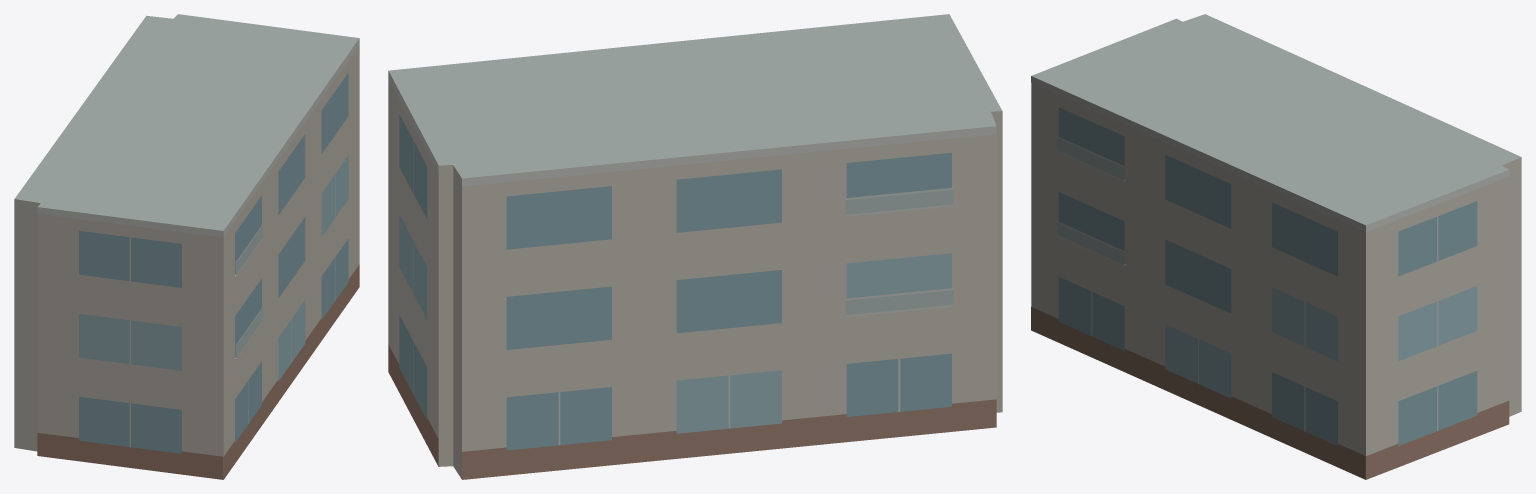
Rendered from survey-upis-32717473.glb.
3 views of the same model, side by side, from view 1: azimuth 30°, elevation 25°; view 2: azimuth 150°, elevation 25°; view 3: azimuth 270°, elevation 25° (orthographic). The views are drawn at different scales.
Parts seen in each view (by area): view 1: survey-upis-32717473.tmp; view 2: survey-upis-32717473.tmp; view 3: survey-upis-32717473.tmp.
Boxes of the visible parts, x1=… form: survey-upis-32717473.tmp: x1=14, y1=14, x2=359, y2=479; survey-upis-32717473.tmp: x1=388, y1=14, x2=1002, y2=479; survey-upis-32717473.tmp: x1=1031, y1=14, x2=1521, y2=479.
Size of the model in its own units: 16.31 by 9.15 by 15.99.
